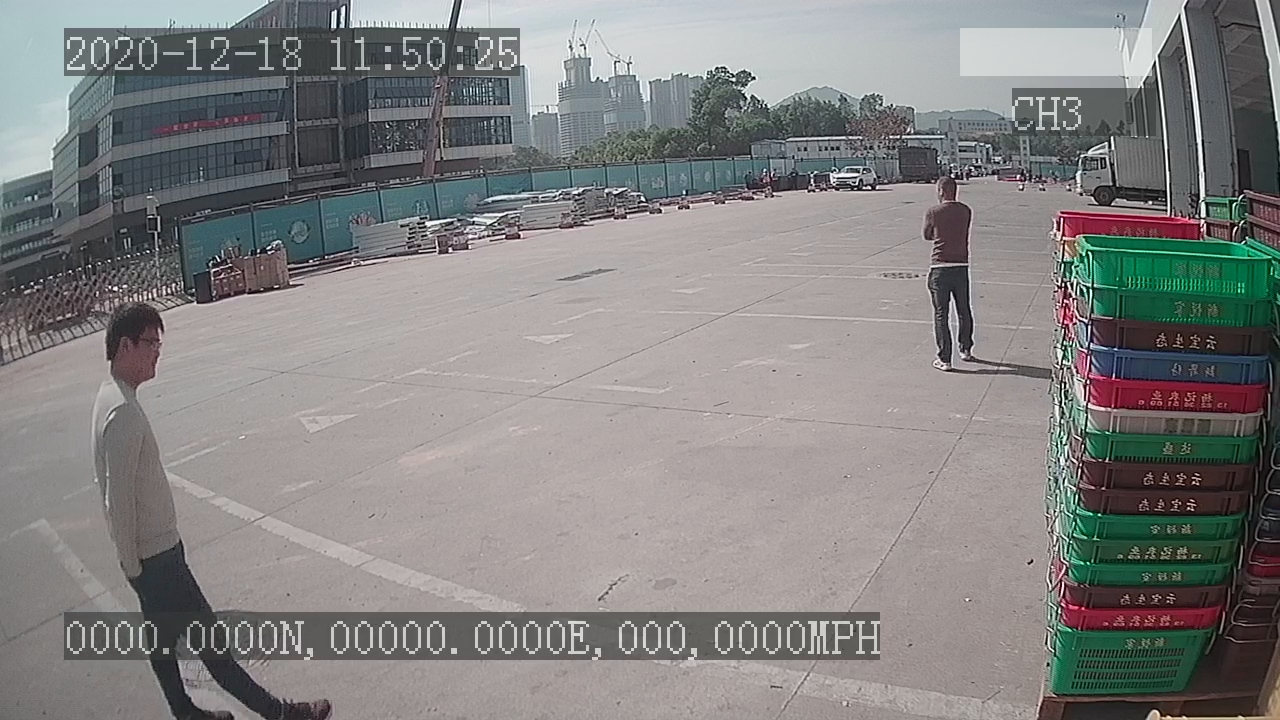person: (917, 172, 983, 376)
